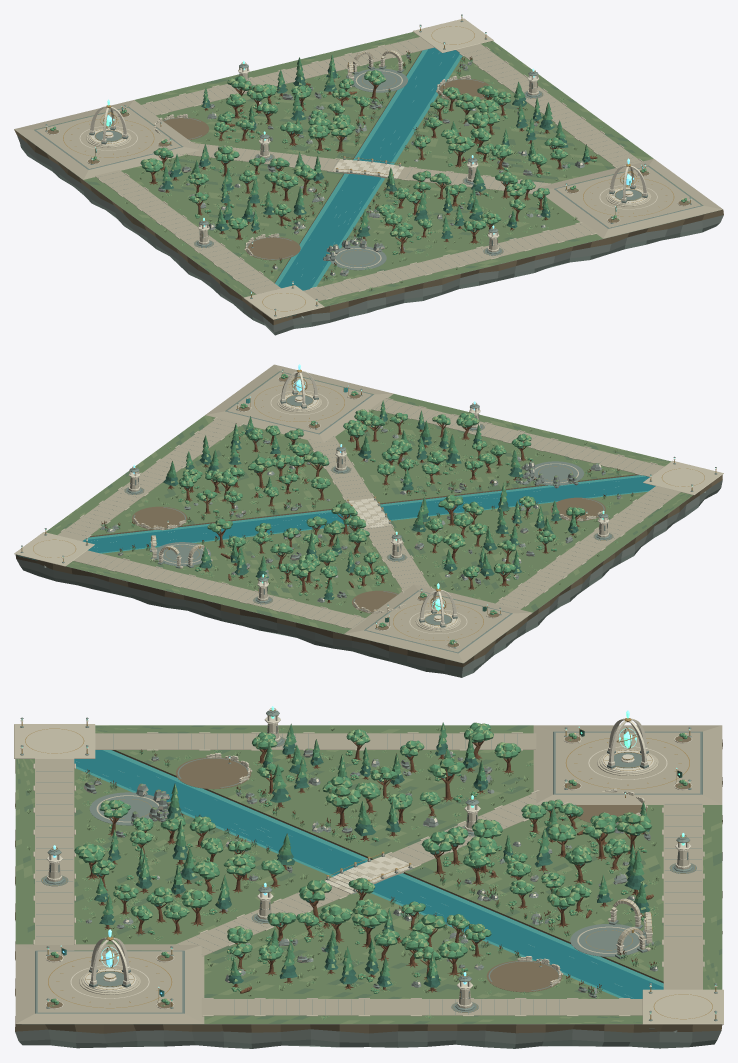
File: verdant-confluence.glb
3 renders of one model, top to bottom at view 1: azimuth 30°, elevation 25°; view 2: azimuth 150°, elevation 25°; view 3: azimuth 270°, elevation 25°, orthographic. The views are drawn at different scales.
Parts seen in each view (by area): view 1: Landscape / meadow -1, Landscape / meadow 1, Landscape / stratified island, River / turquoise channel, Route 1 / continuous stone bed.002, Route 1 / continuous stone bed.001, Base blue / paving, Route 2 / continuous stone bed.003, Base green / paving, Route 2 / continuous stone bed.002, Route 0 / continuous stone bed, River crossing / corner watergate (+19 smaller); view 2: Landscape / meadow -1, Landscape / meadow 1, Landscape / stratified island, River / turquoise channel, Route 2 / continuous stone bed.002, Route 1 / continuous stone bed.001, Route 2 / continuous stone bed.003, Base blue / paving, Base green / paving, Route 1 / continuous stone bed.002, Route 0 / continuous stone bed, River crossing / corner watergate.001 (+19 smaller); view 3: Landscape / meadow -1, Landscape / meadow 1, Landscape / stratified island, River / turquoise channel, Route 2 / continuous stone bed.003, Route 1 / continuous stone bed.002, Route 2 / continuous stone bed.002, Base blue / paving, Base green / paving, Route 1 / continuous stone bed.001, Route 0 / continuous stone bed, River crossing / corner watergate.001 (+33 smaller).
Boxes of the visible parts, <box> form: Landscape / meadow -1: <box>317,41,703,306</box>; Landscape / meadow 1: <box>34,32,421,297</box>; Landscape / stratified island: <box>14,129,723,335</box>; River / turquoise channel: <box>277,47,459,319</box>; Route 1 / continuous stone bed.002: <box>303,222,597,301</box>; Route 1 / continuous stone bed.001: <box>95,170,280,294</box>; Base blue / paving: <box>556,166,700,227</box>; Route 2 / continuous stone bed.003: <box>456,43,643,171</box>; Base green / paving: <box>36,107,180,168</box>; Route 2 / continuous stone bed.002: <box>131,37,434,117</box>; Route 0 / continuous stone bed: <box>176,141,565,195</box>; River crossing / corner watergate: <box>243,285,324,319</box>; Landscape / meadow -1: <box>46,371,670,535</box>; Landscape / meadow 1: <box>66,491,692,633</box>; Landscape / stratified island: <box>15,475,722,677</box>; River / turquoise channel: <box>18,476,655,559</box>; Route 2 / continuous stone bed.002: <box>73,550,375,629</box>; Route 1 / continuous stone bed.001: <box>490,486,680,612</box>; Route 2 / continuous stone bed.003: <box>57,417,242,541</box>; Base blue / paving: <box>227,372,371,433</box>; Base green / paving: <box>366,591,510,652</box>; Route 1 / continuous stone bed.002: <box>371,398,664,476</box>; Route 0 / continuous stone bed: <box>307,436,430,597</box>; River crossing / corner watergate.001: <box>14,532,94,566</box>; Landscape / meadow -1: <box>15,759,642,1023</box>; Landscape / meadow 1: <box>95,725,722,989</box>; Landscape / stratified island: <box>15,739,722,1048</box>; River / turquoise channel: <box>74,750,663,998</box>; Route 2 / continuous stone bed.003: <box>201,999,642,1015</box>; Route 1 / continuous stone bed.002: <box>35,758,74,950</box>; Route 2 / continuous stone bed.002: <box>663,803,702,989</box>; Base blue / paving: <box>37,951,182,1012</box>; Base green / paving: <box>555,732,700,793</box>; Route 1 / continuous stone bed.001: <box>95,733,536,749</box>; Route 0 / continuous stone bed: <box>161,792,554,956</box>; River crossing / corner watergate.001: <box>642,989,723,1024</box>.
Bounding box in the file's own units: 218 × 27.62 × 218.
